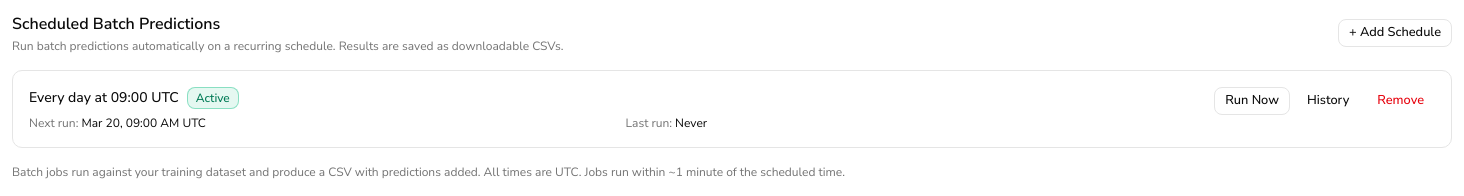
Test: ScheduleCard › removes schedule when Remove is clicked
This screenshot has width=1464, height=196.
Step 1. Click the button with test id "delete-schedule-btn-sched-1" → (1401, 101), box [1366,87,1435,115]
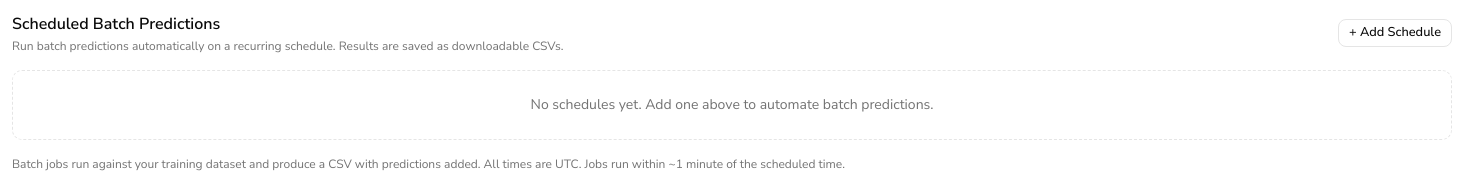
Expected: the button with test id "run-now-btn-sched-1" is gone
